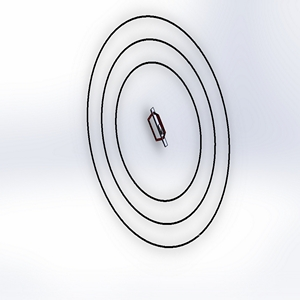circle: (76, 12, 240, 253)
submarine: (137, 98, 176, 153)
